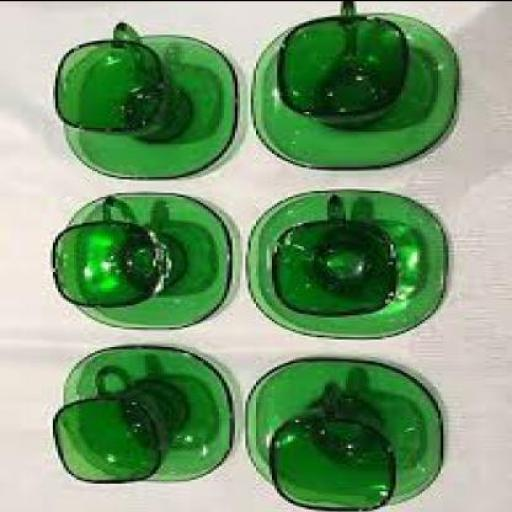glass: (248, 13, 457, 170), (246, 190, 446, 340), (246, 360, 441, 506), (60, 35, 235, 180), (61, 194, 229, 330), (63, 348, 232, 482), (266, 383, 397, 511), (275, 2, 406, 128), (52, 24, 188, 142), (270, 196, 398, 318), (50, 368, 180, 484), (50, 198, 174, 308)
